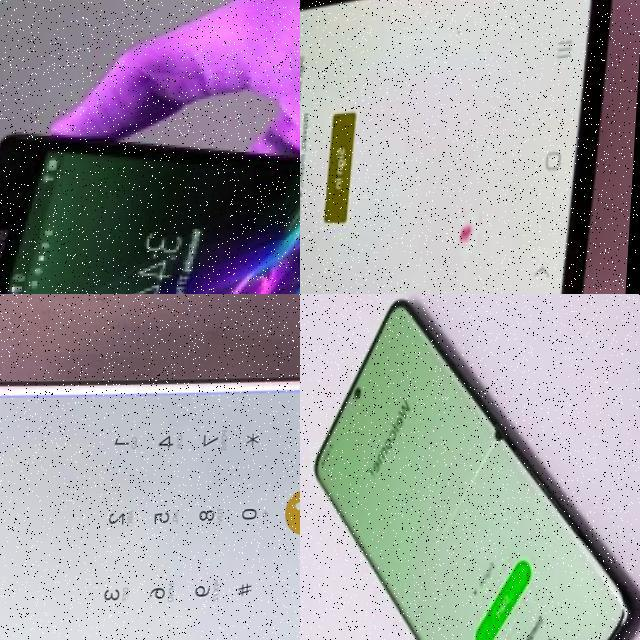dead pixel: (440, 193, 498, 277), (488, 417, 516, 460)
